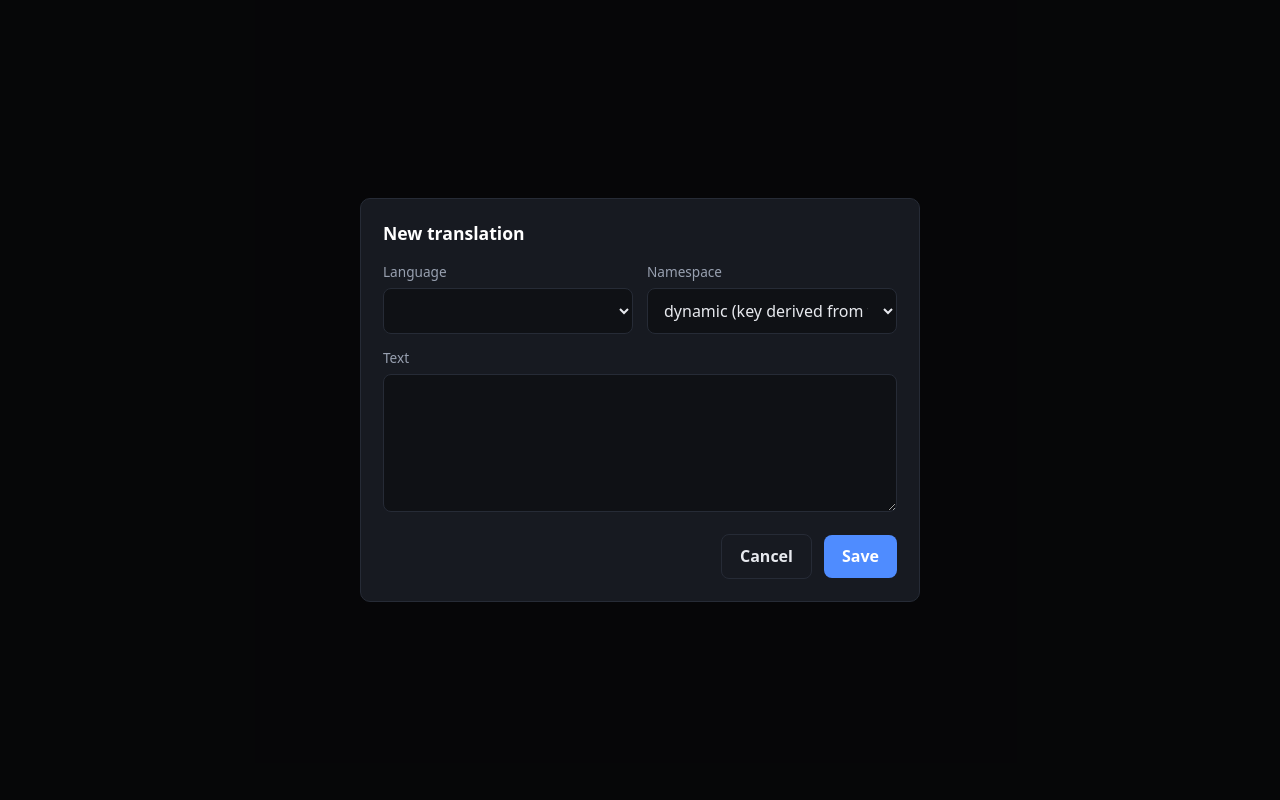
Scenario: TranslationsForm › fails validation when no language is available to preselect
Type "Hello world" into the text box labelled "Text" at (640, 443), box x1=383 y1=374 x2=897 y2=512
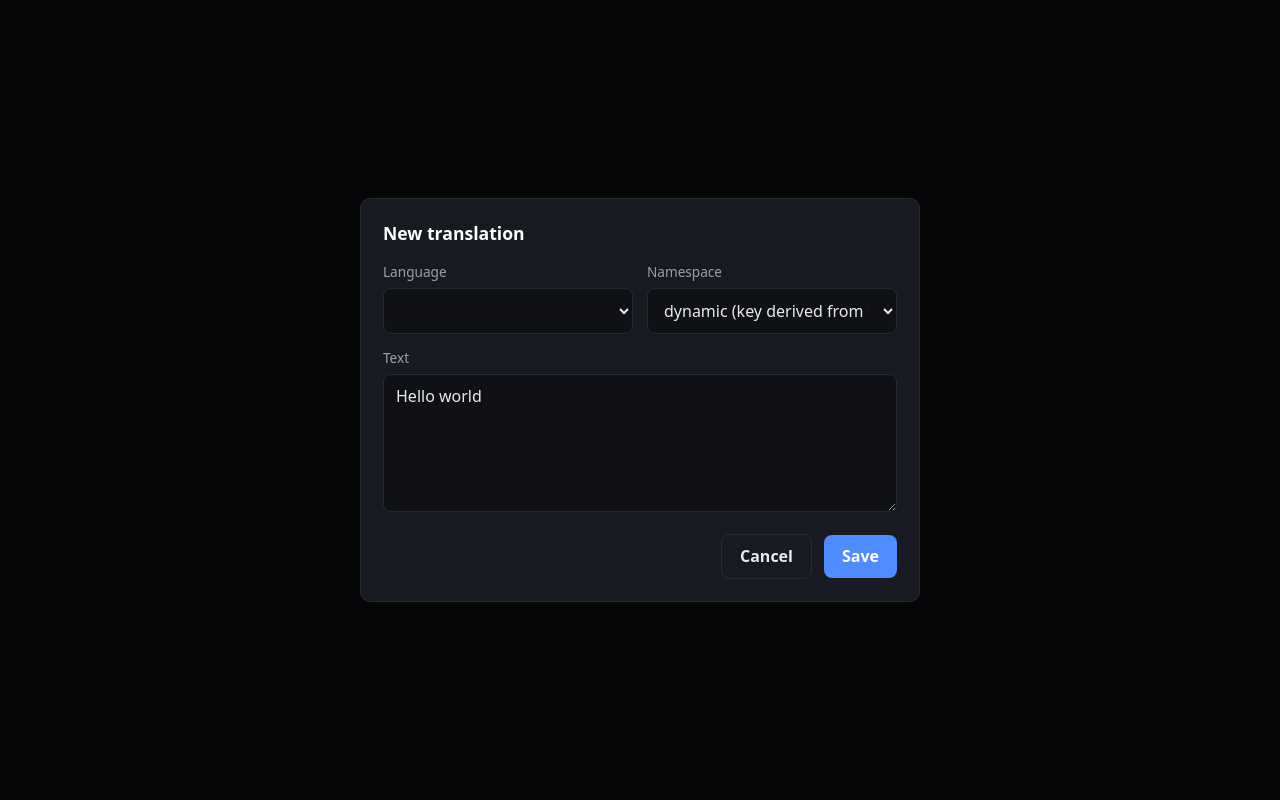
Click the button "Save" at (860, 556), box x1=824 y1=535 x2=897 y2=578
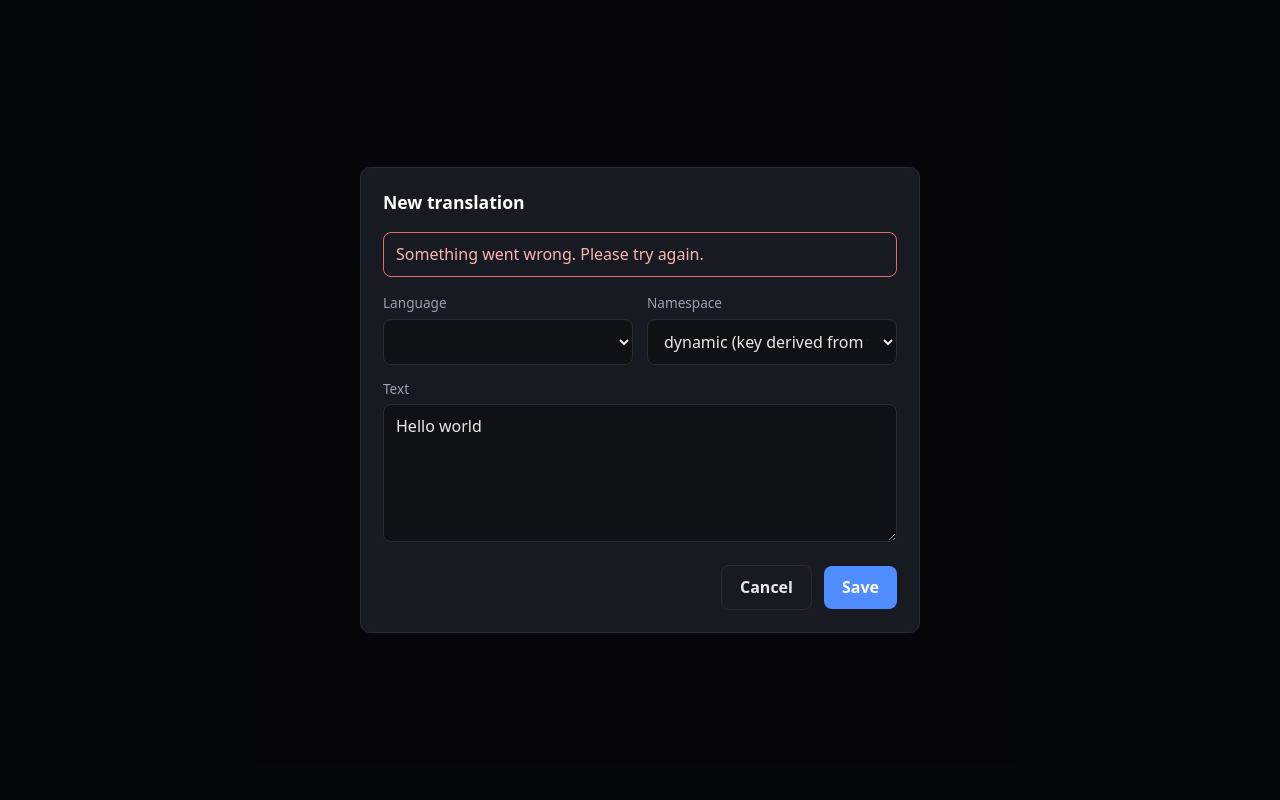
Expected: the message "Something went wrong. Please try again." is shown, x1=383 y1=232 x2=897 y2=277
